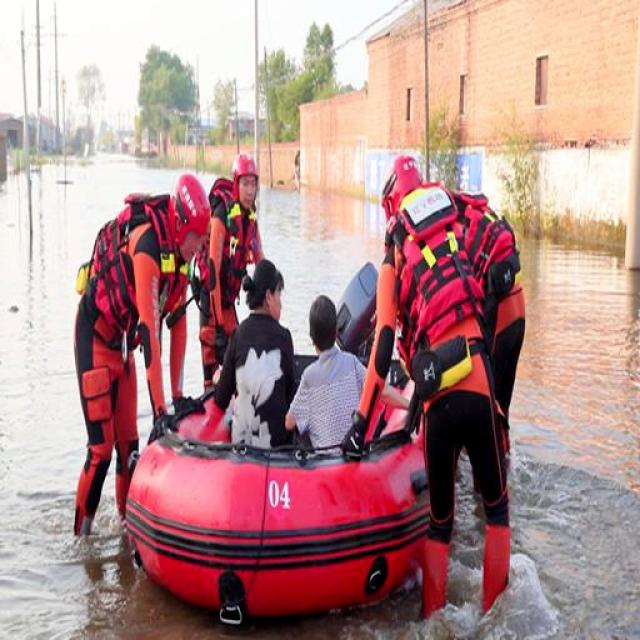civilian: (286, 270, 392, 482), (212, 254, 303, 476)
rescuer: (338, 156, 526, 640), (52, 161, 221, 553), (410, 154, 540, 481), (192, 144, 268, 406)
